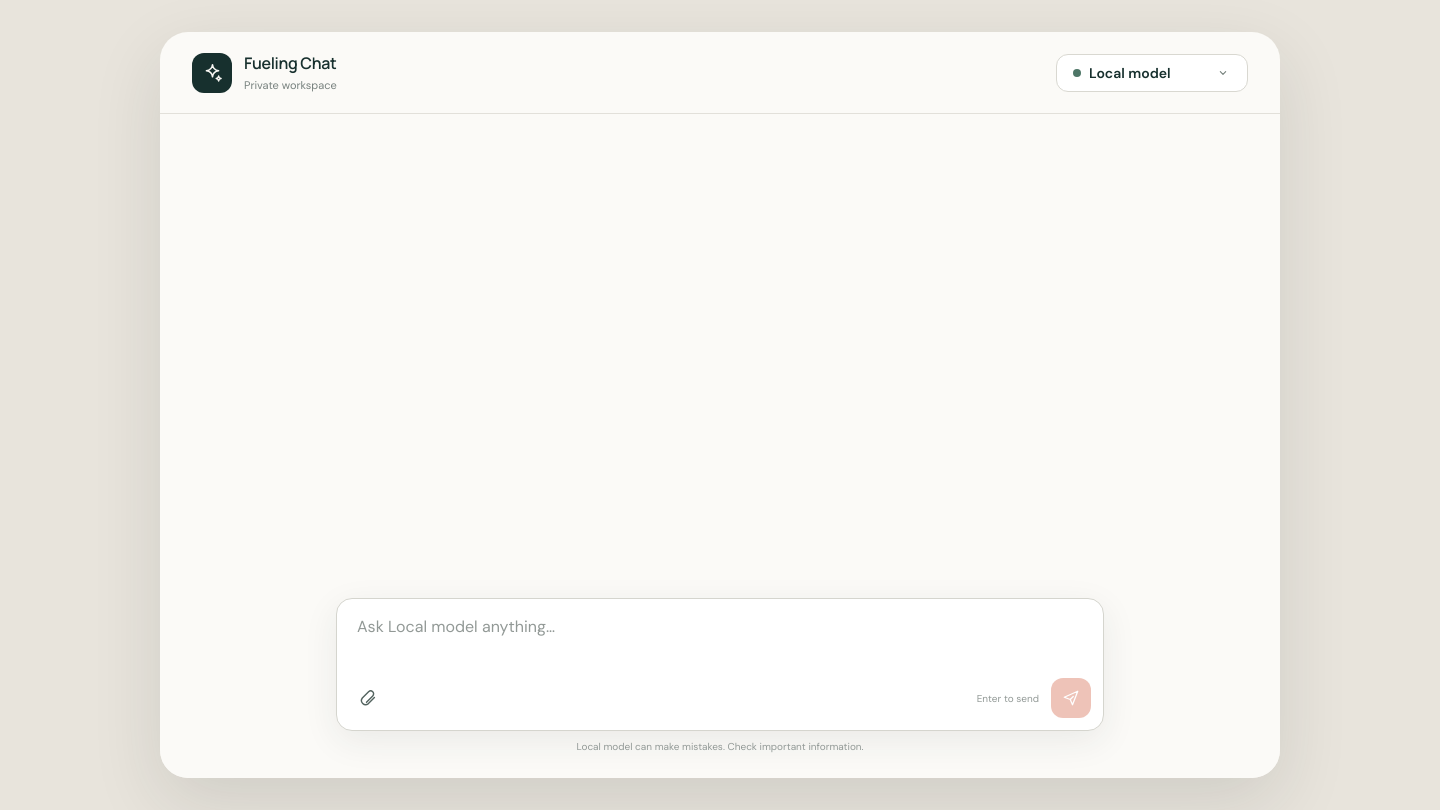
it: send flow › posts exactly one request with prompt and provider to the chat endpoint
Type "What do we know about fueling F-10001?" into the text box named "Message" at (720, 639), box [345, 607, 1095, 671]
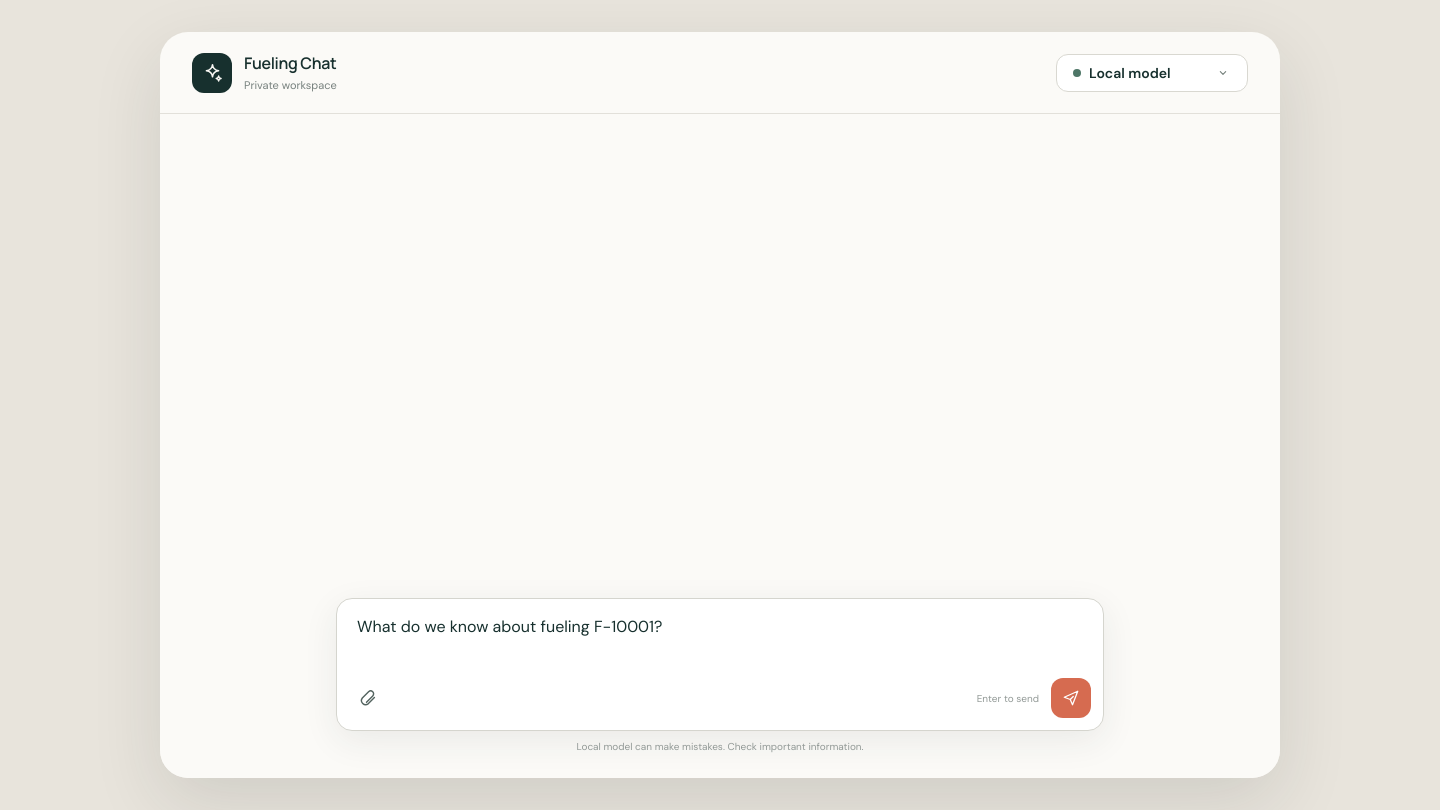
Press Enter in the text box named "Message", box [345, 607, 1095, 671]
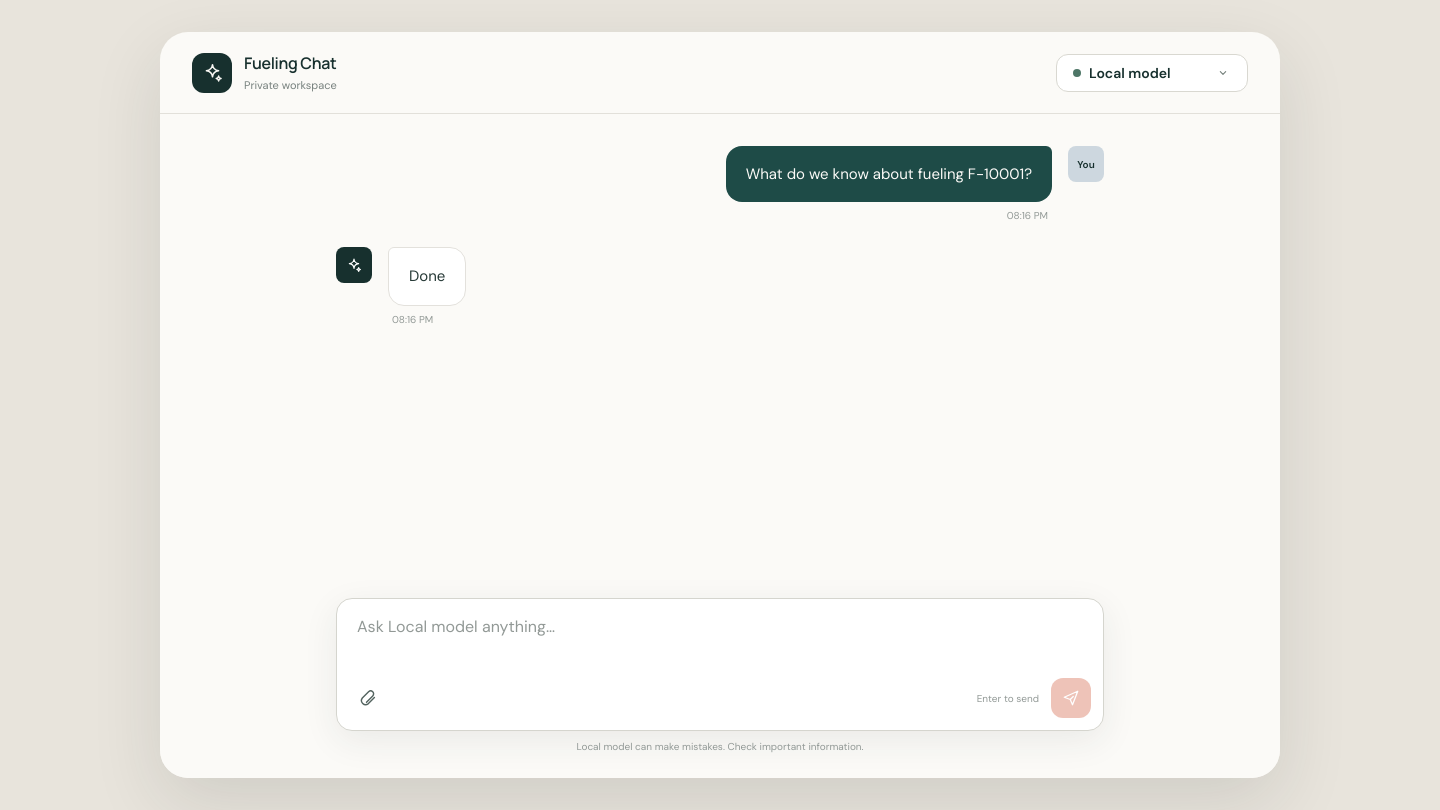
Check: the text "Done" is shown, box [388, 247, 466, 306]
